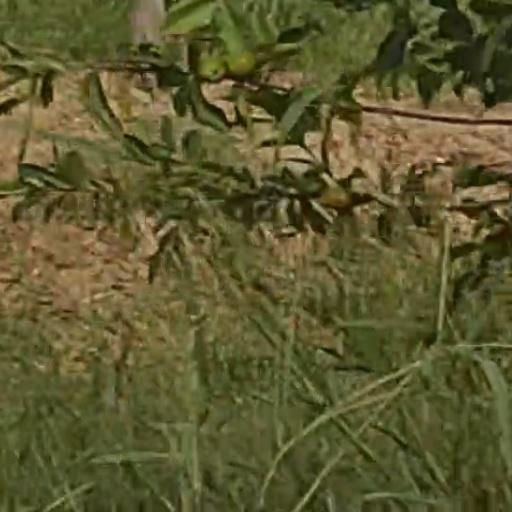acerola: (198, 56, 226, 81), (234, 55, 253, 79)
